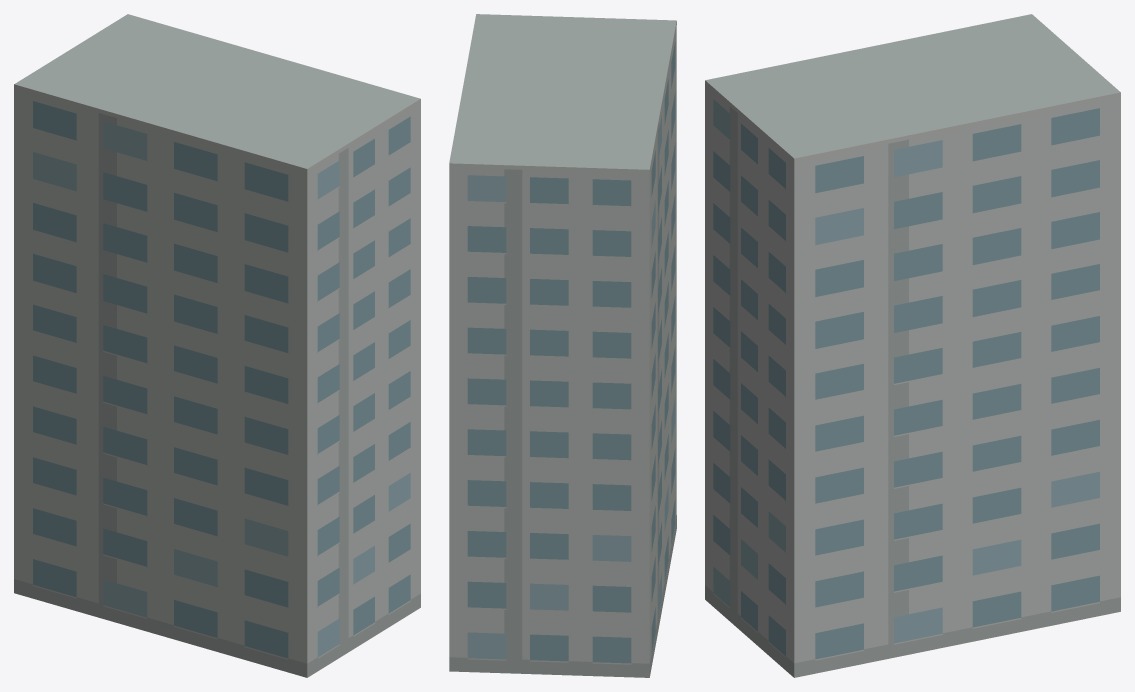
Rendered from residential-a62465b8-c926-4fc9-a546-127d9b17d5ec.glb.
3 renders of one model, left to right at view 1: azimuth 30°, elevation 25°; view 2: azimuth 150°, elevation 25°; view 3: azimuth 270°, elevation 25°, orthographic. The views are drawn at different scales.
Parts seen in each view (by area): view 1: residential-a62465b8-c926-4fc9-a546-127d9b17d5ec.tmp; view 2: residential-a62465b8-c926-4fc9-a546-127d9b17d5ec.tmp; view 3: residential-a62465b8-c926-4fc9-a546-127d9b17d5ec.tmp.
Boxes of the visible parts, x1=… form: residential-a62465b8-c926-4fc9-a546-127d9b17d5ec.tmp: x1=14, y1=14, x2=420, y2=677; residential-a62465b8-c926-4fc9-a546-127d9b17d5ec.tmp: x1=449, y1=14, x2=676, y2=677; residential-a62465b8-c926-4fc9-a546-127d9b17d5ec.tmp: x1=705, y1=14, x2=1120, y2=677.
Bounding box in the file's own units: 17.92 × 30 × 21.77.
